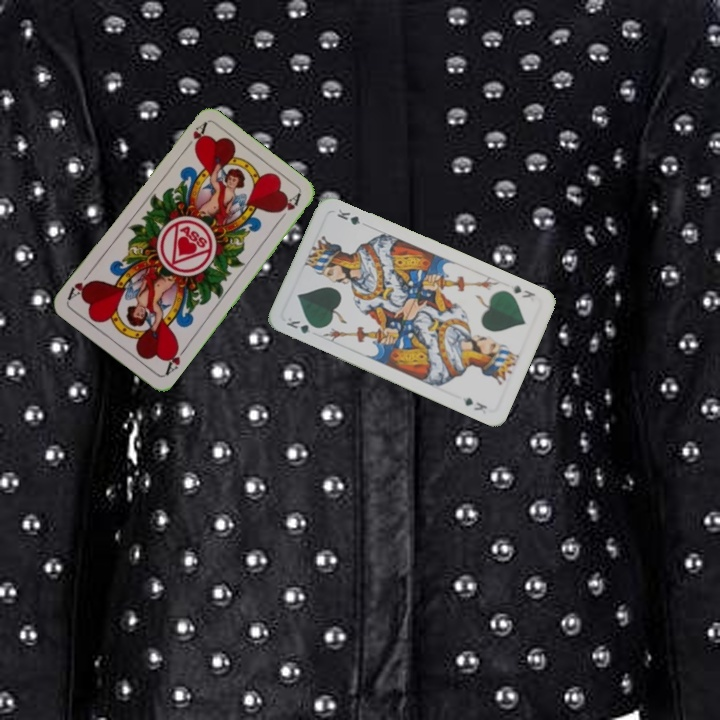GK: (282, 313, 322, 336), (510, 281, 538, 301)
HA: (160, 341, 189, 378), (180, 119, 209, 154)
